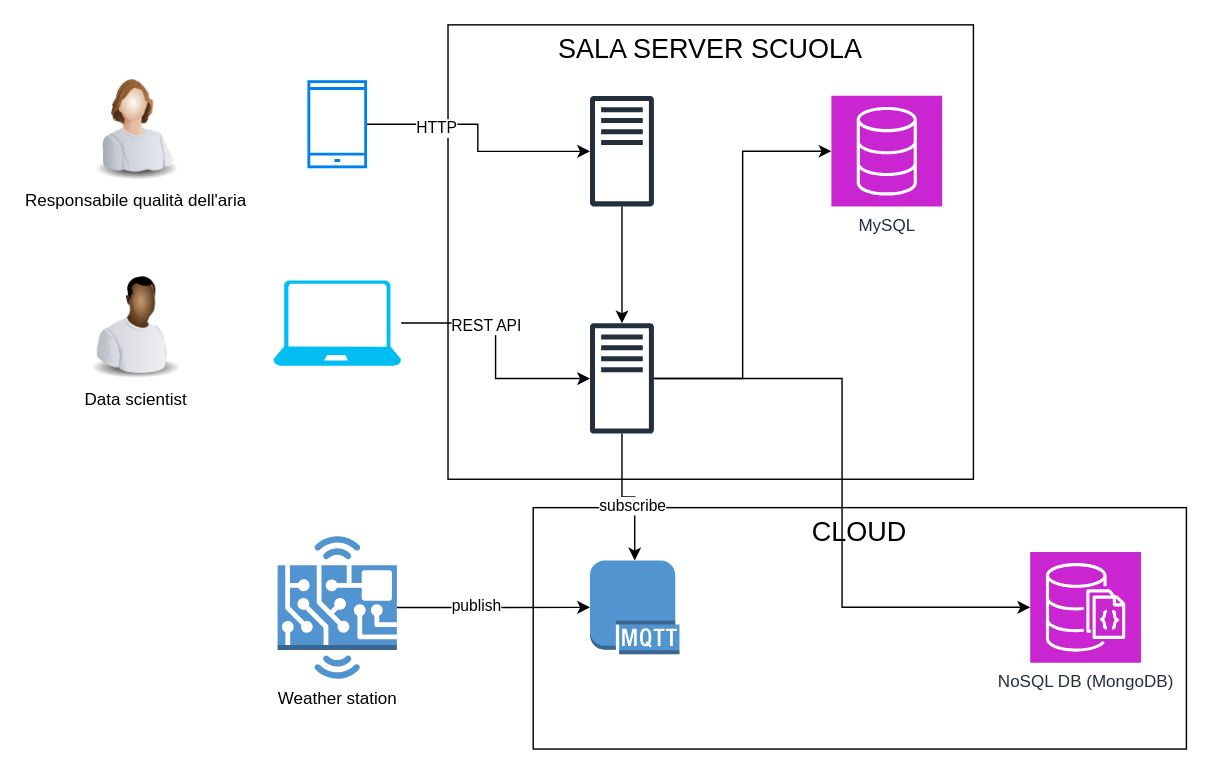
Image size: 1211x774. Some labels were removed from this diagram. Each missing label, with the centre of its shape:
"Application server (NodeRED)" goes at pixel 621 377.
"MQTT Broker (HiveMQ)" goes at pixel 634 606.
"Web Server" goes at pixel 621 150.
